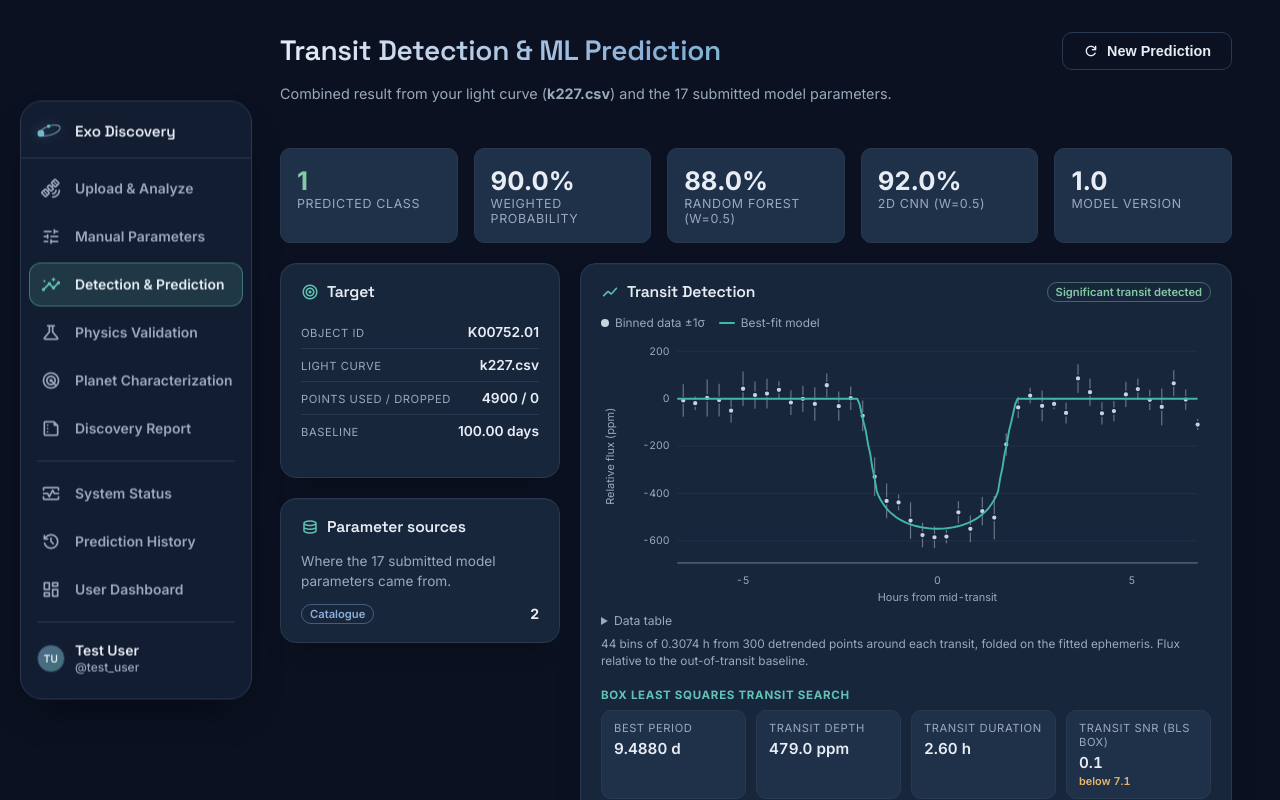
Test: Planet characterization dashboard › an invalid override is rejected client-side before any request
Click the link "Planet Characterization" at (137, 380), box [41,368,233,392]
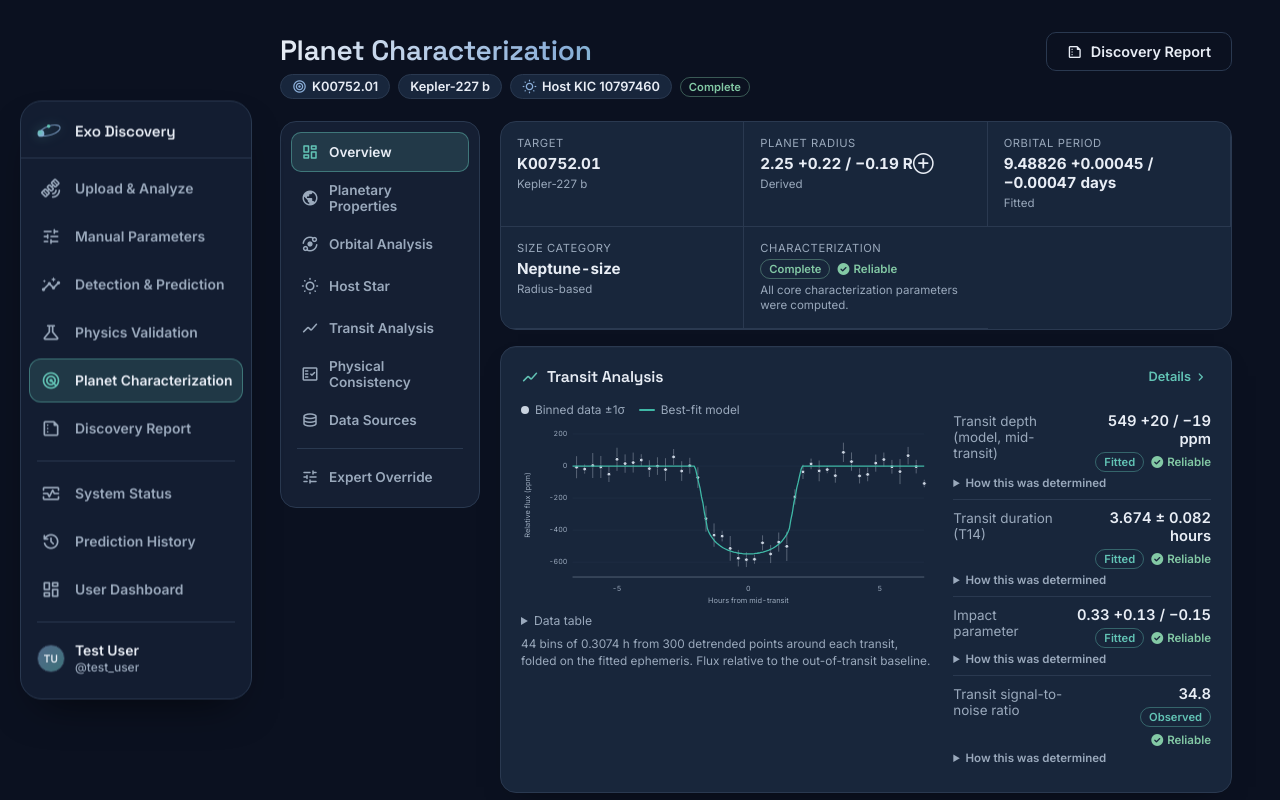
Click the button "Expert Override" at (380, 477), box [291,457,469,497]
(page scrolled)
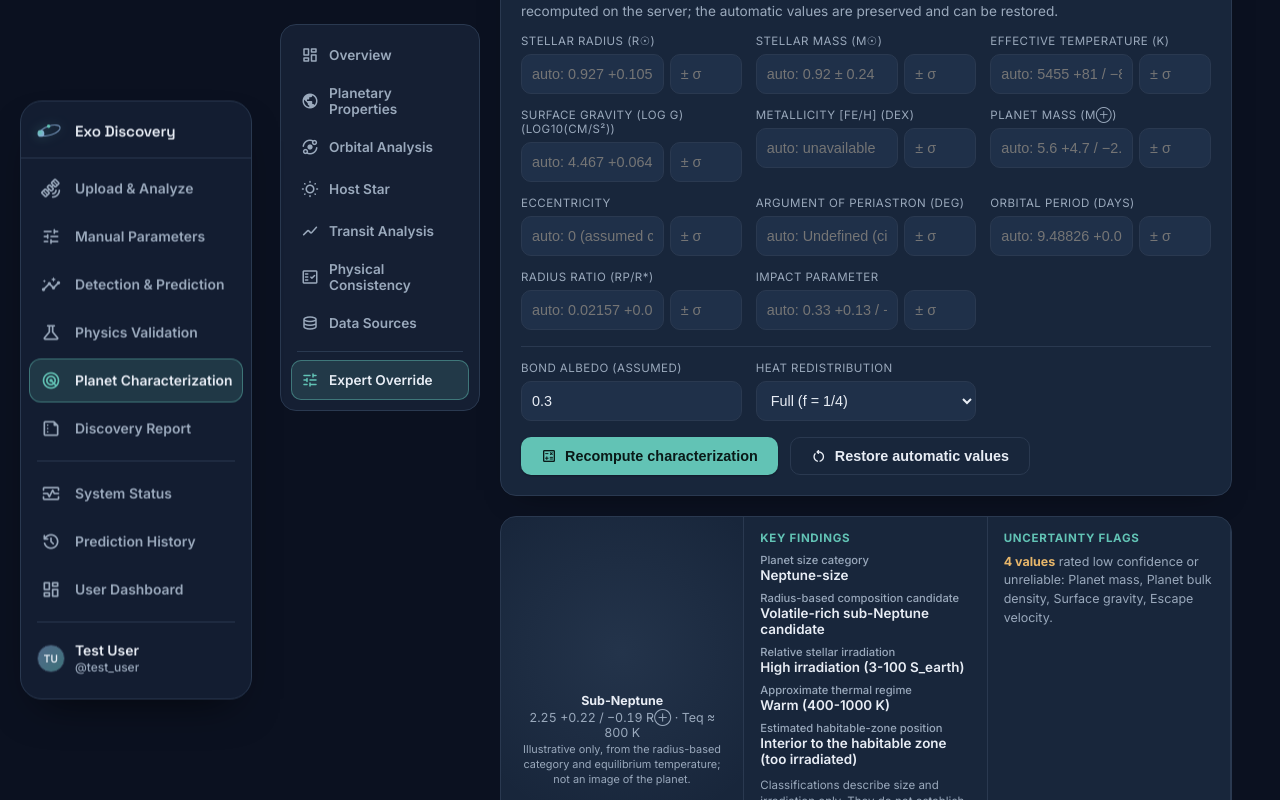
Replace the text in the field labelled "Bond albedo (assumed)" with "1.4" at (631, 401), box [521,381,742,421]
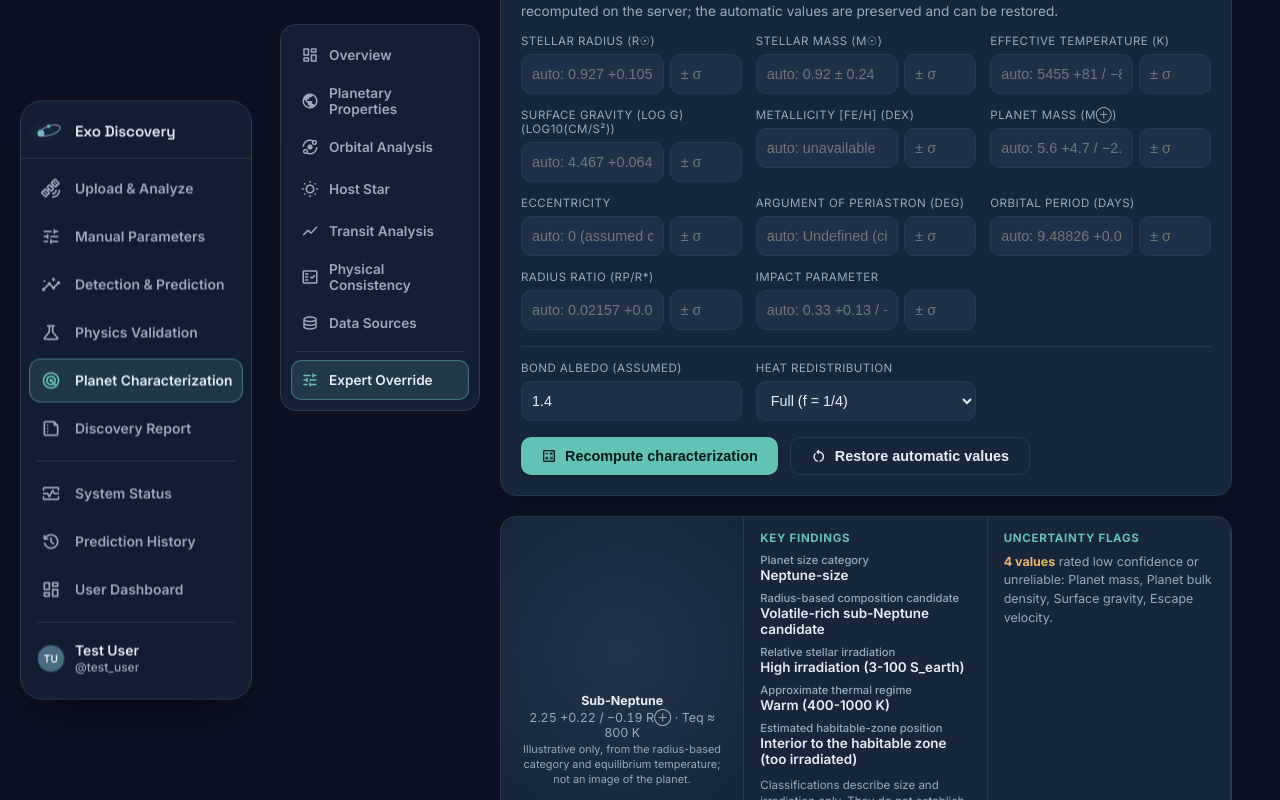
Click the button "Recompute characterization" at (649, 456), box [521,437,778,475]
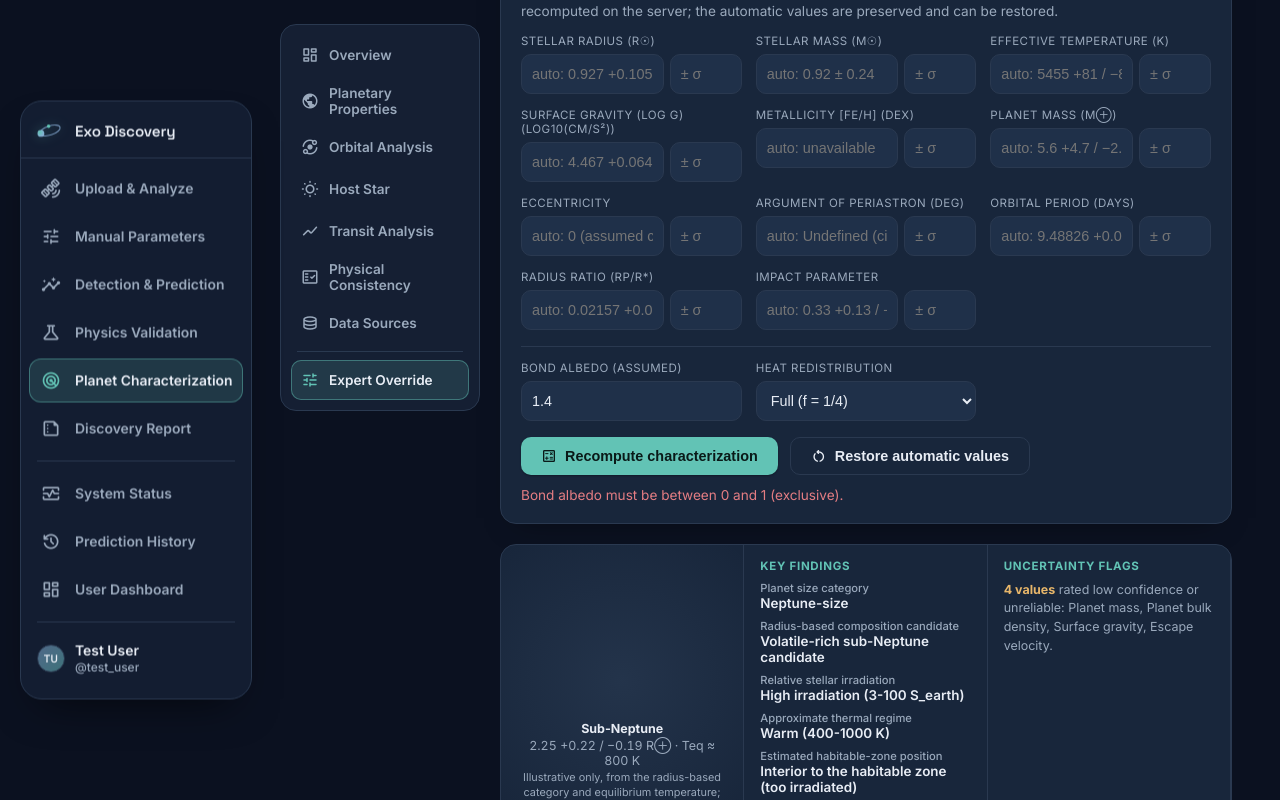
Now the message shows "Bond albedo", box [521,487,843,503]
